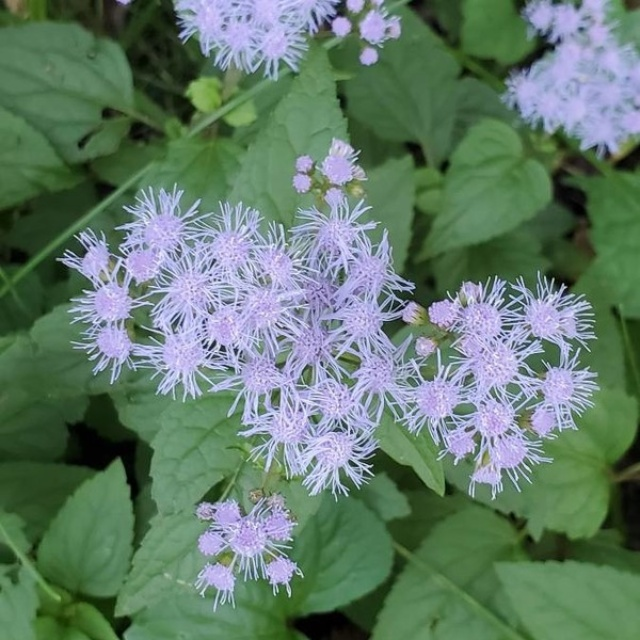obstacle: (25, 153, 626, 623)
